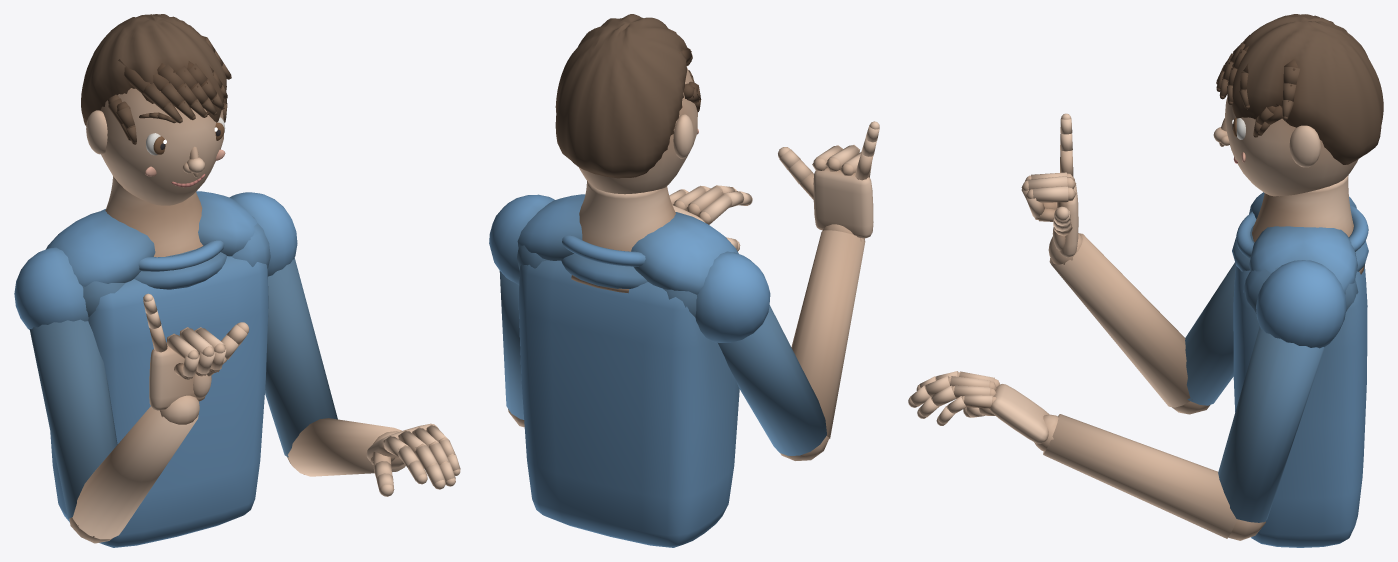
3 views of the same model, side by side, from view 1: azimuth 30°, elevation 25°; view 2: azimuth 150°, elevation 25°; view 3: azimuth 270°, elevation 25° (orthographic).
Visible parts, largest first — view 1: LSC_Body; view 2: LSC_Body; view 3: LSC_Body.
Boxes of the visible parts, bbox=[...] form: LSC_Body: bbox=[14, 14, 460, 547]; LSC_Body: bbox=[489, 14, 879, 547]; LSC_Body: bbox=[908, 14, 1383, 547].
Size of the model in its own units: 0.4304 by 0.713 by 0.6104.
